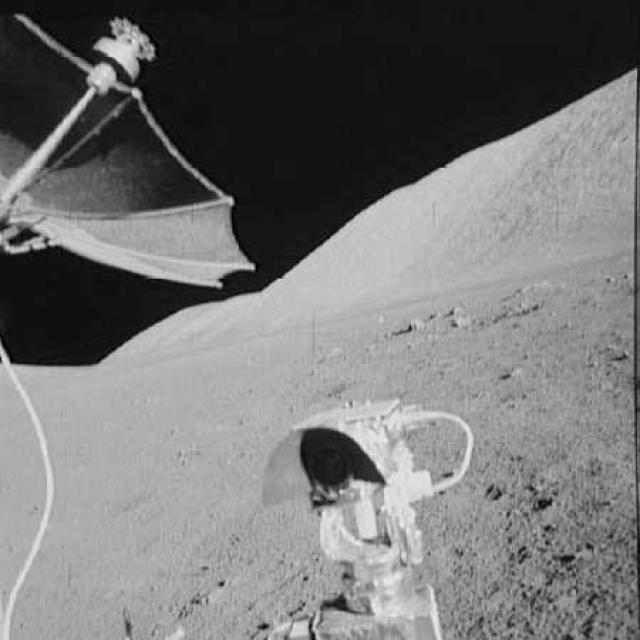artifact: (0, 0, 268, 298), (249, 391, 501, 639), (0, 341, 69, 639)
rock: (498, 301, 544, 321), (447, 302, 470, 332), (405, 314, 428, 336), (502, 357, 526, 378), (600, 273, 619, 286)
